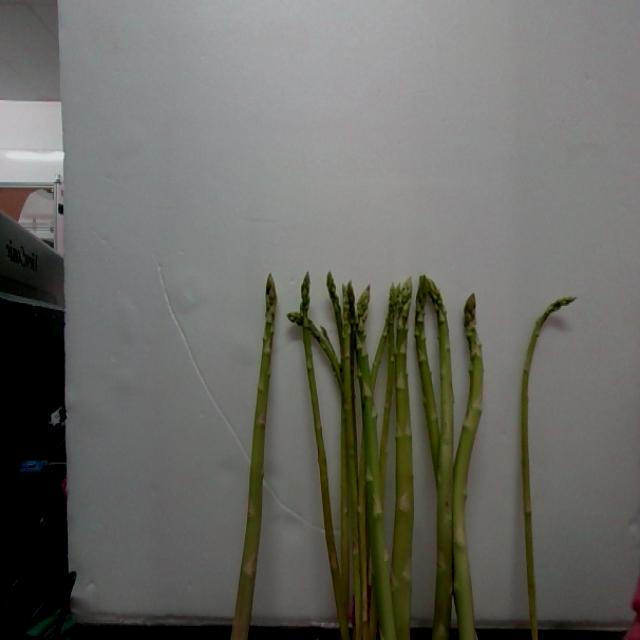aspargus: (520, 296, 578, 640), (232, 279, 279, 640), (451, 296, 485, 639)
